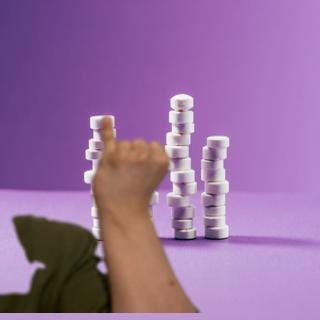FINE: (88, 114, 172, 221)
